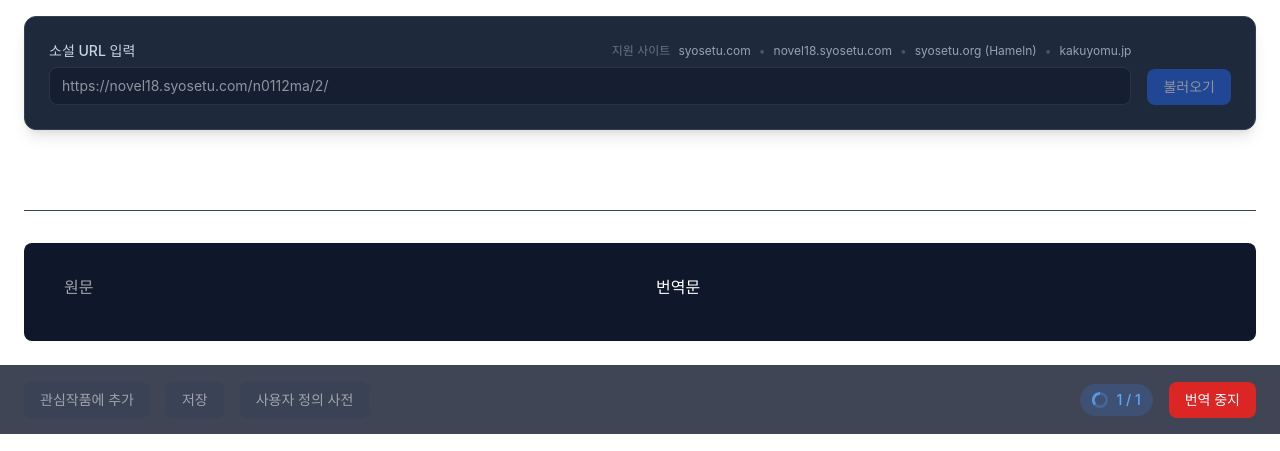
it: TranslationView › keeps a polite stopping announcement until the stop command clears translation state
What coordinates should you click on to do the following:
click the button "번역 중지"
I would click on:
 (1212, 400)
Its box is [1169,382,1256,418].
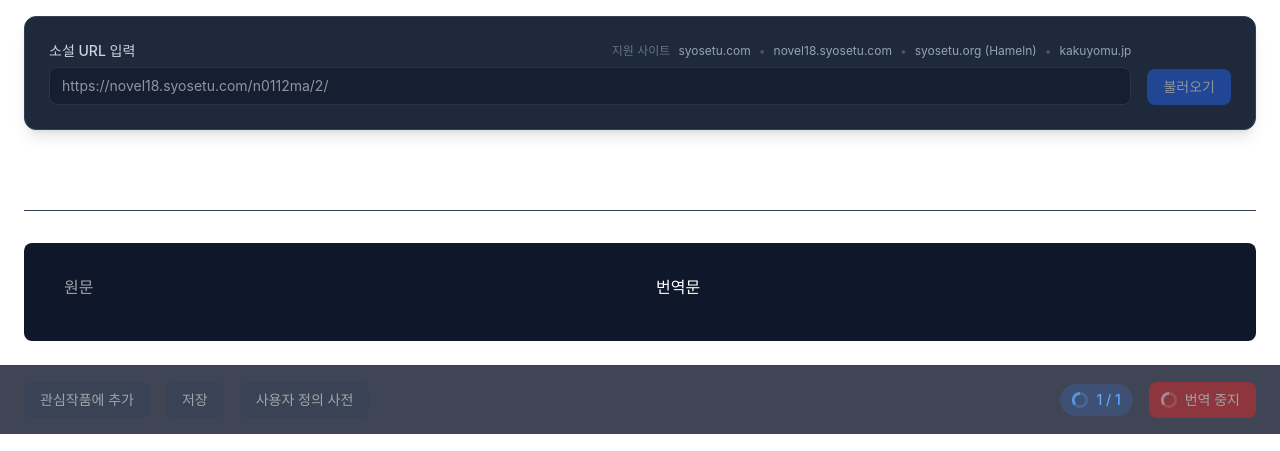
Expected: the button "번역 중지" is disabled, [1149,382,1256,418]
